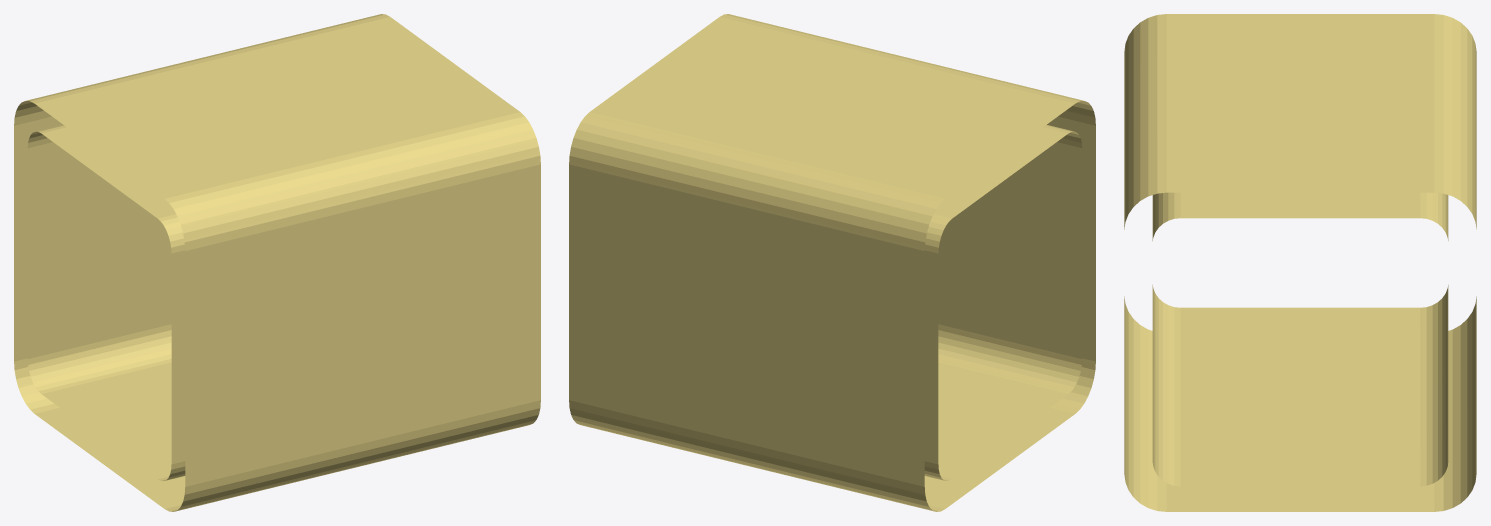
File: RailLeft_05.obj
3 views of the same model, side by side, from view 1: azimuth 30°, elevation 25°; view 2: azimuth 150°, elevation 25°; view 3: azimuth 270°, elevation 25° (orthographic). The views are drawn at different scales.
Visible parts, largest first — view 1: RailLeft_05_14; view 2: RailLeft_05_14; view 3: RailLeft_05_14.
Part boxes in pixels (x1,y1,x2,y2): RailLeft_05_14: [14, 14, 540, 511]; RailLeft_05_14: [569, 14, 1095, 511]; RailLeft_05_14: [1124, 14, 1476, 511].
Bounding box in the file's own units: 0.03 × 0.025 × 0.025.
